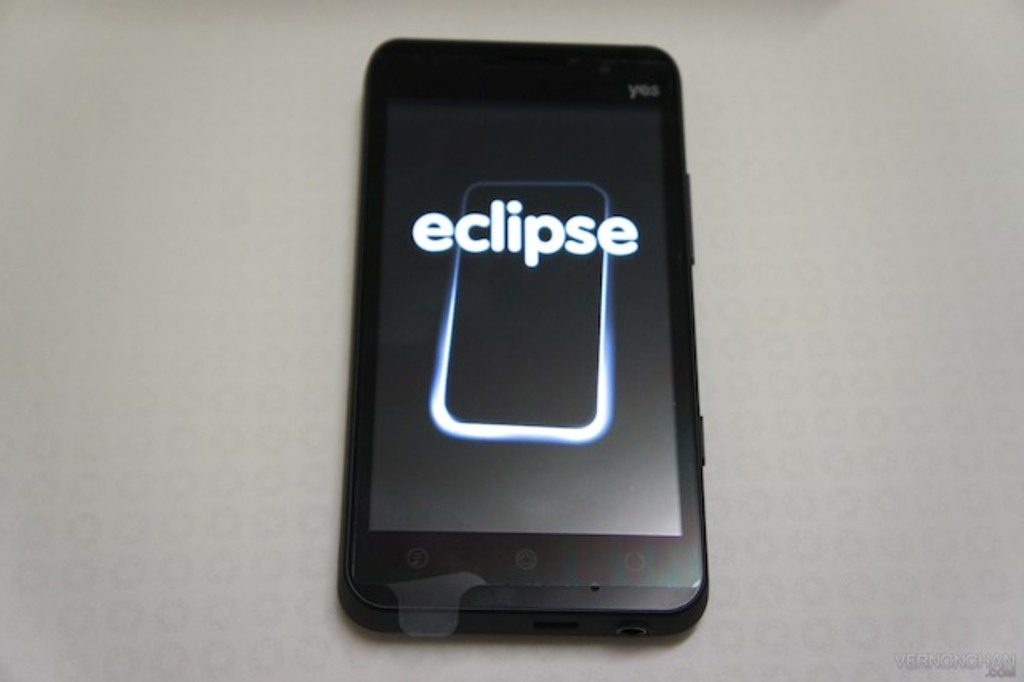mobile phone: (334, 35, 715, 645)
